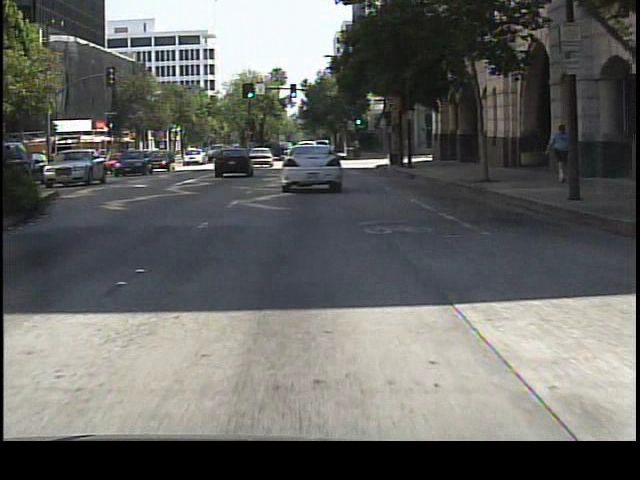person: (545, 119, 570, 188)
